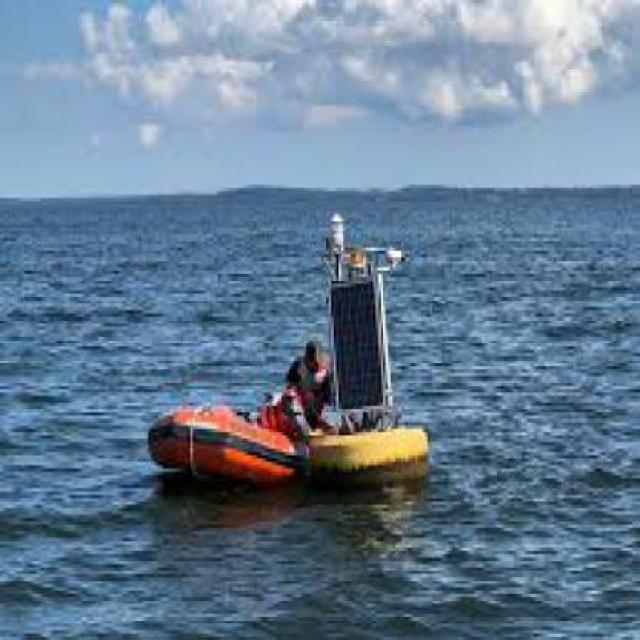buoy: (307, 199, 432, 499)
